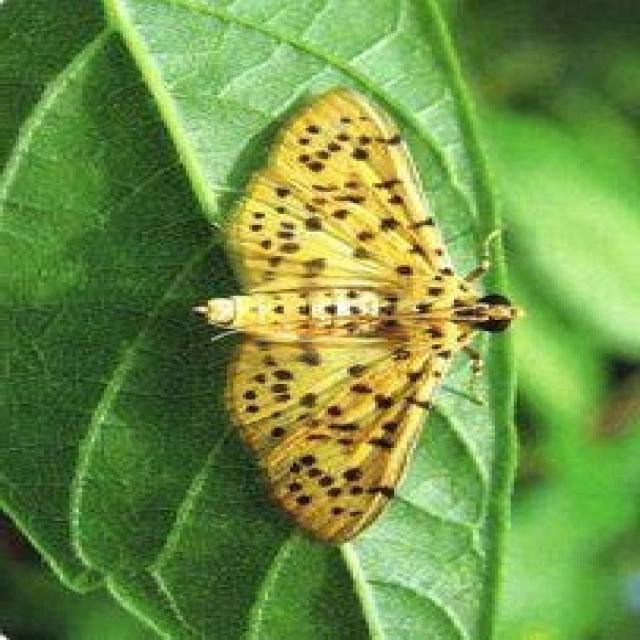peach borer: (187, 79, 528, 576)
